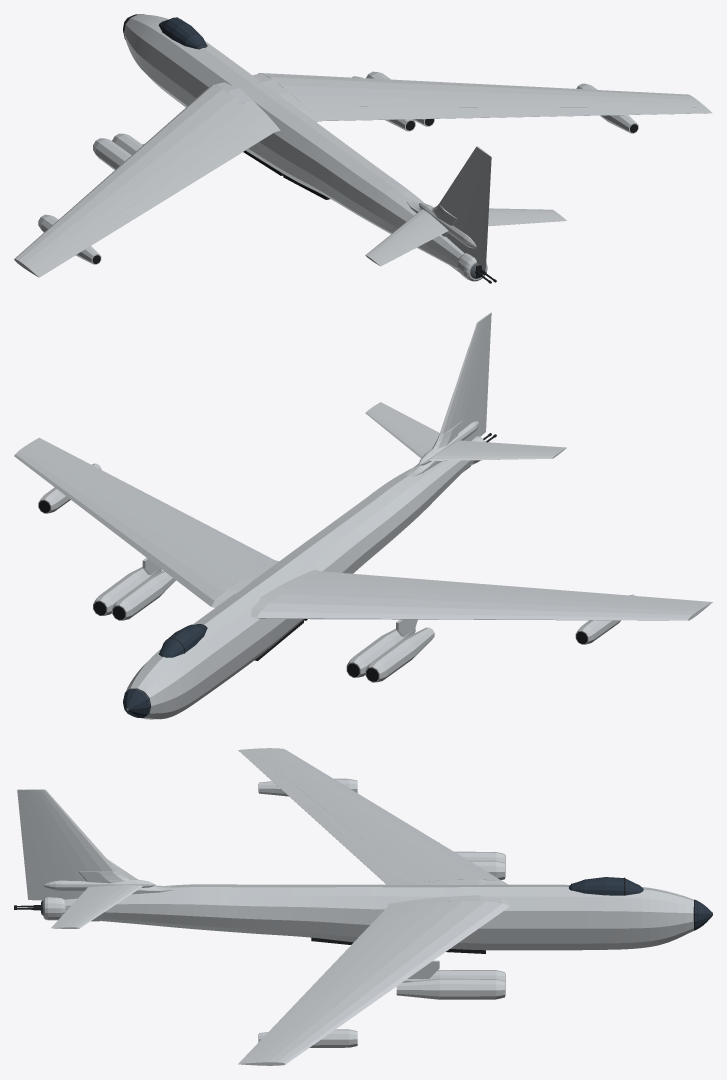
3 views of the same model, one above another, from view 1: azimuth 30°, elevation 25°; view 2: azimuth 150°, elevation 25°; view 3: azimuth 270°, elevation 25° (orthographic). The views are drawn at different scales.
Parts seen in each view (by area): view 1: Fuselage, Wing L, Wing R, Flap R, Flap L, Nacelles, Vertical Fin, Rudder, Stabilizer L, Aileron R, Aileron L, Cockpit Glass (+3 smaller); view 2: Fuselage, Wing L, Wing R, Nacelles, Vertical Fin, Flap L, Flap R, Stabilizer L, Rudder, Stabilizer R, Cockpit Glass, Aileron L (+2 smaller); view 3: Fuselage, Wing R, Wing L, Nacelles, Vertical Fin, Rudder, Flap L, Flap R, Stabilizer R, Cockpit Glass, Dorsal Fillet, Aileron L (+3 smaller).
Boxes of the visible parts, x1,y1,x2,y2 form: Fuselage: (124, 14, 464, 269); Wing L: (14, 82, 280, 277); Wing R: (253, 73, 712, 122); Flap R: (325, 106, 555, 120); Flap L: (124, 125, 262, 219); Nacelles: (38, 71, 638, 264); Vertical Fin: (439, 146, 485, 250); Rudder: (462, 153, 491, 268); Stabilizer L: (365, 209, 439, 262); Aileron R: (563, 107, 692, 116); Aileron L: (45, 217, 123, 270); Cockpit Glass: (158, 18, 206, 49); Fuselage: (126, 460, 473, 719); Wing L: (251, 570, 712, 620); Wing R: (14, 437, 278, 607); Nacelles: (38, 463, 635, 682); Vertical Fin: (439, 316, 486, 440); Flap L: (326, 573, 555, 594); Flap R: (124, 486, 262, 561); Stabilizer L: (430, 446, 562, 460); Rudder: (467, 312, 491, 440); Stabilizer R: (365, 405, 435, 458); Cockpit Glass: (159, 624, 206, 657); Aileron L: (563, 591, 692, 603); Fuselage: (64, 884, 693, 950); Wing R: (238, 895, 509, 1065); Wing L: (238, 748, 507, 884); Nacelles: (259, 778, 504, 1047); Vertical Fin: (27, 789, 116, 899); Rudder: (17, 789, 68, 900); Flap L: (298, 802, 407, 878); Flap R: (298, 911, 408, 1000); Stabilizer R: (60, 885, 142, 928); Cockpit Glass: (569, 877, 643, 895); Dorsal Fillet: (79, 870, 175, 894); Aileron L: (245, 755, 309, 798).
Bounding box in the file's own units: 35.36 × 8.35 × 33.25.
